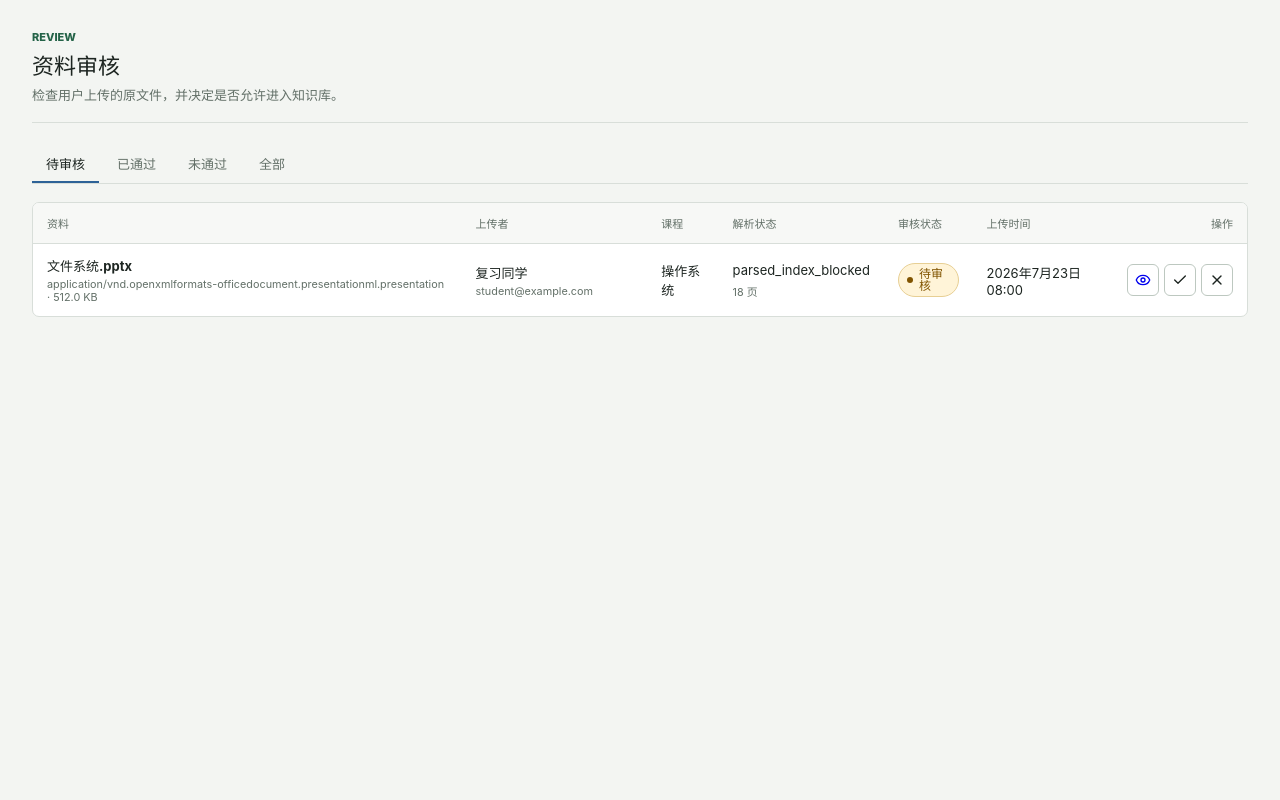
AdminReviewsPage › requires a reason before rejecting and submits the trimmed note
Click the button named "拒绝 文件系统.pptx" at (1217, 280), box [1201, 264, 1233, 296]
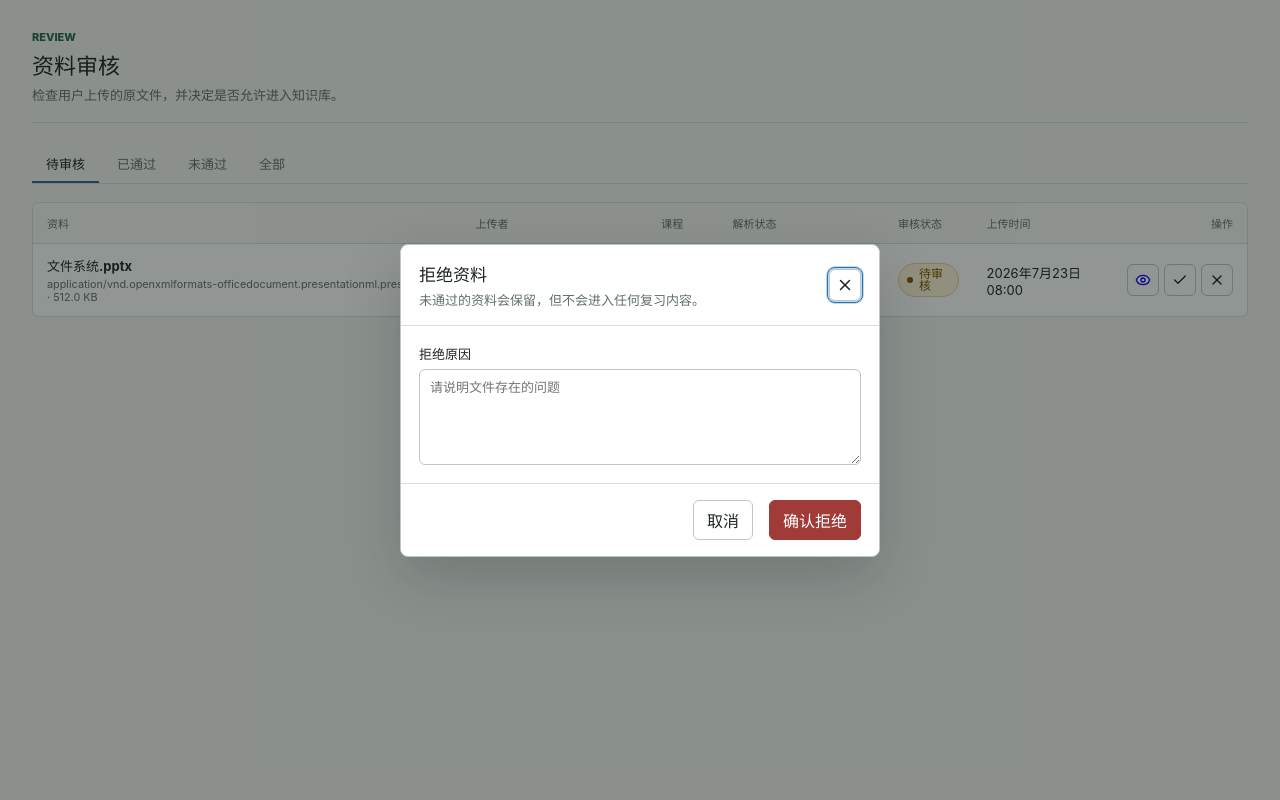
Click the button "确认拒绝" at (815, 520), box [769, 500, 861, 540]
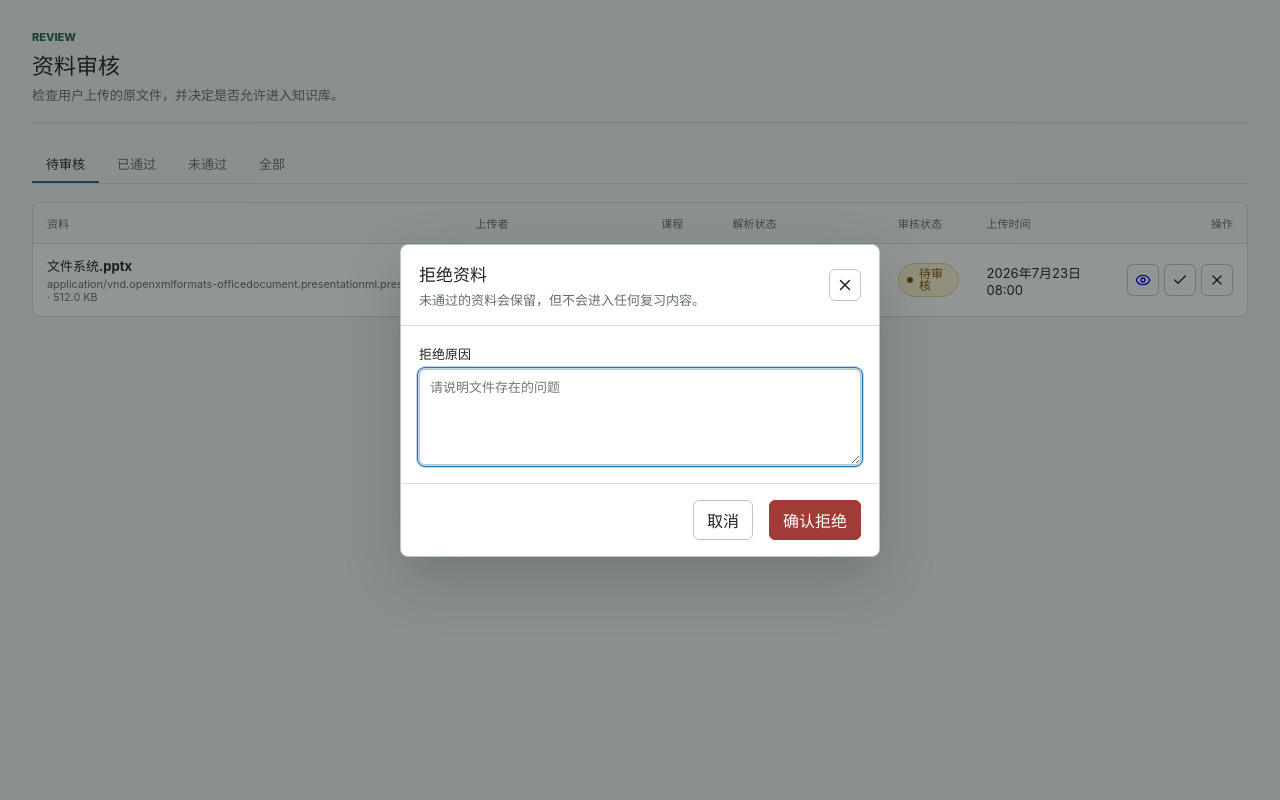
Type "  文件内容与课程无关  " into the text box labelled "拒绝原因" at (640, 416), box [419, 368, 861, 464]
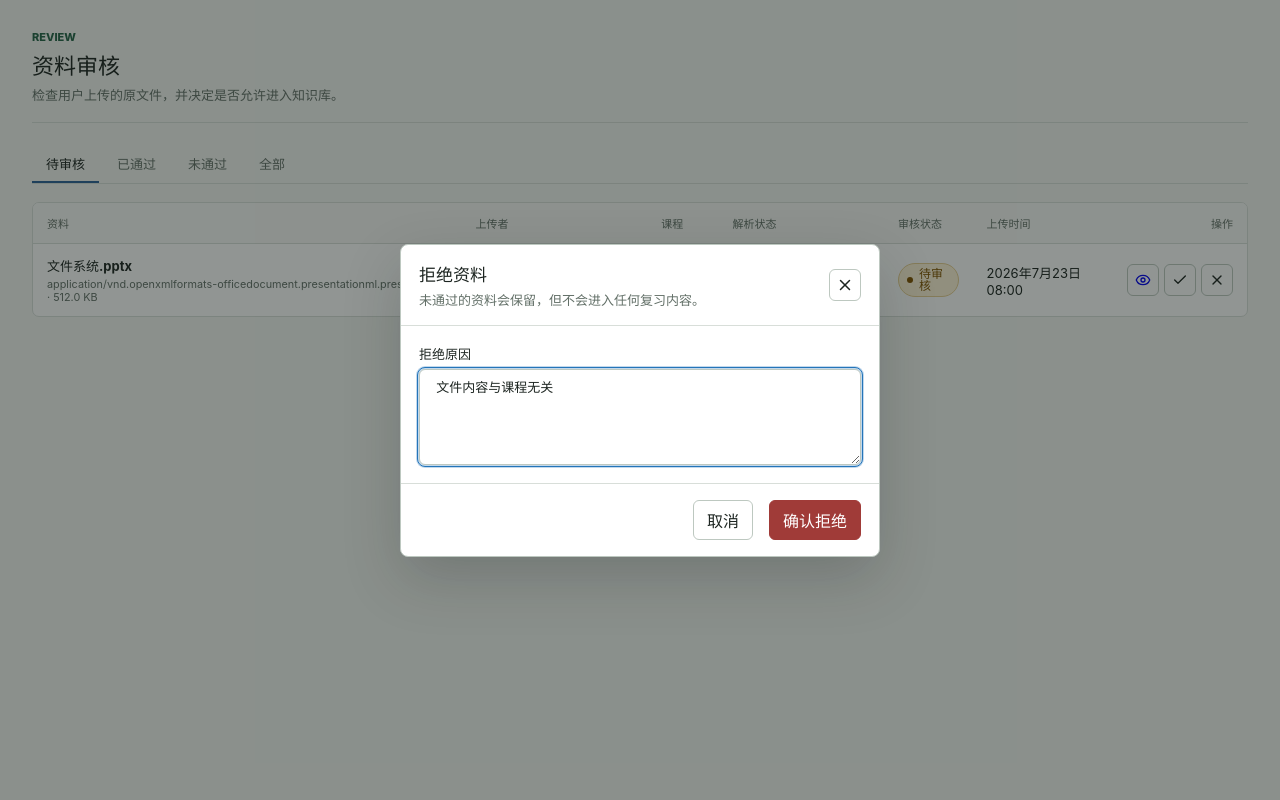
Click the button "确认拒绝" at (815, 520), box [769, 500, 861, 540]
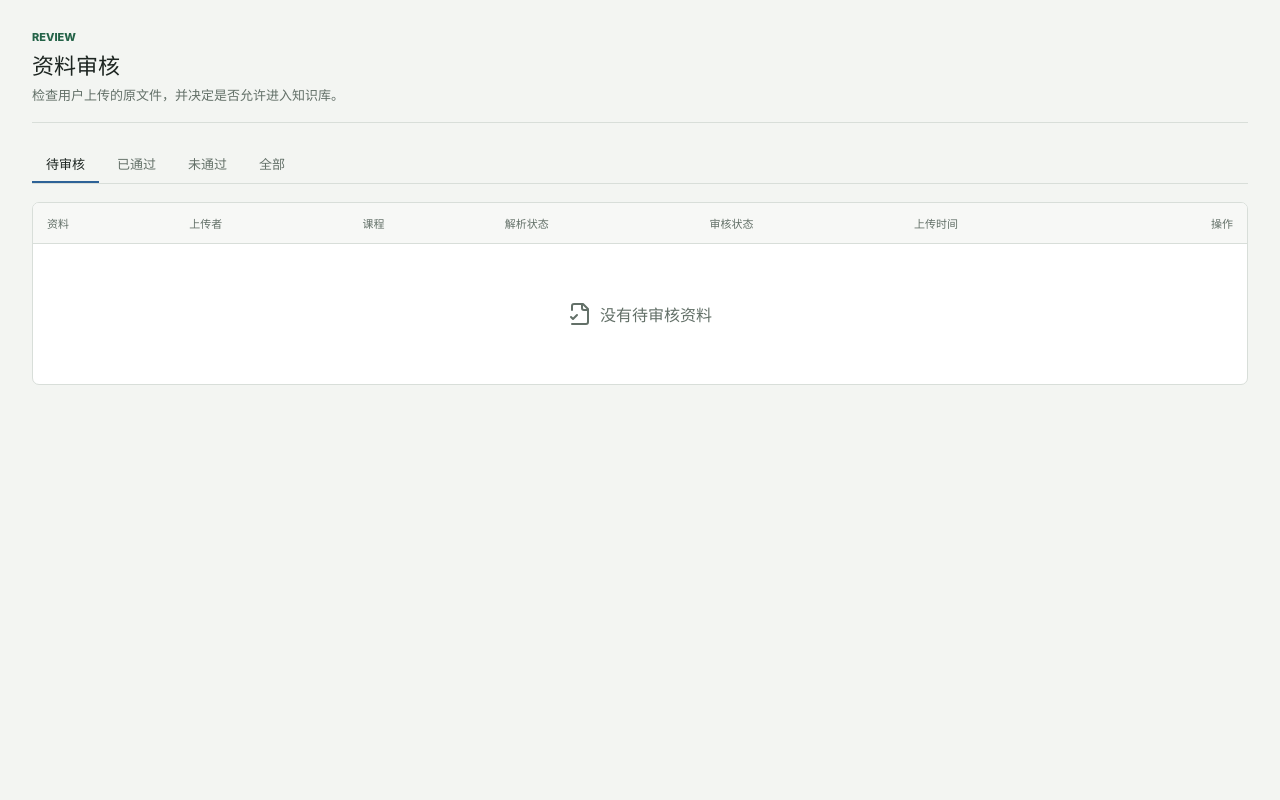
Expected: the text "没有待审核资料" is shown, [600, 302, 712, 326]
